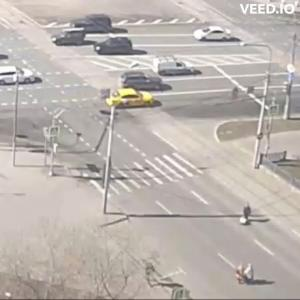car: (121, 73, 174, 94), (66, 14, 116, 34), (109, 89, 156, 109), (1, 65, 43, 86), (99, 38, 141, 57), (159, 60, 203, 78), (195, 27, 233, 43), (52, 32, 90, 47), (1, 66, 19, 86)
